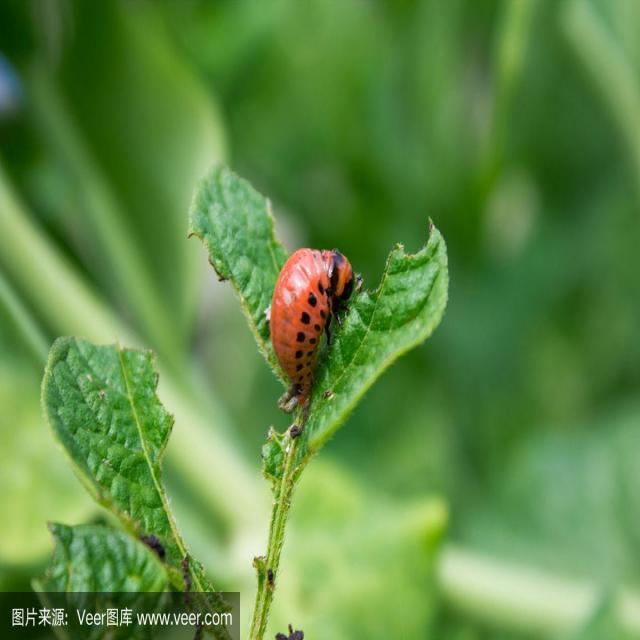ShuCaiHuaBanChong-Larva-: (256, 224, 354, 415)
